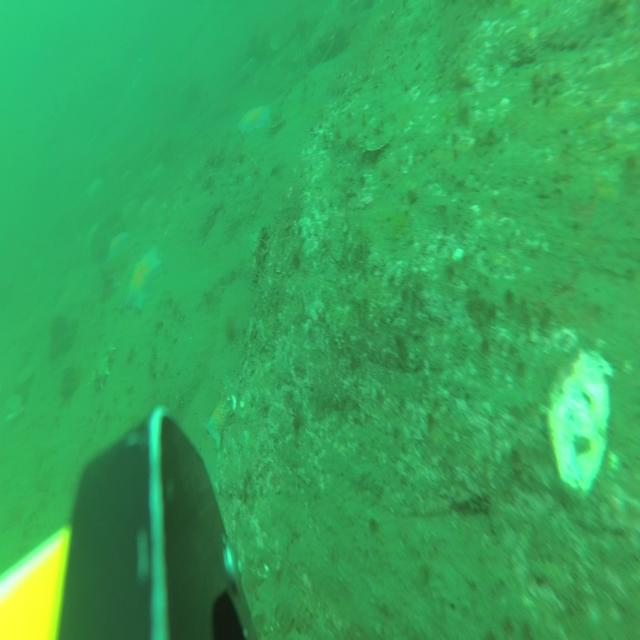holothurian: (87, 345, 115, 395)
starfish: (125, 242, 162, 314), (206, 399, 238, 455), (237, 100, 274, 136), (106, 229, 128, 267)
